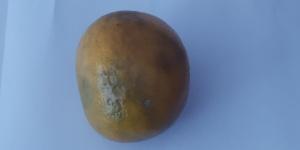BAD: (74, 9, 197, 144)
